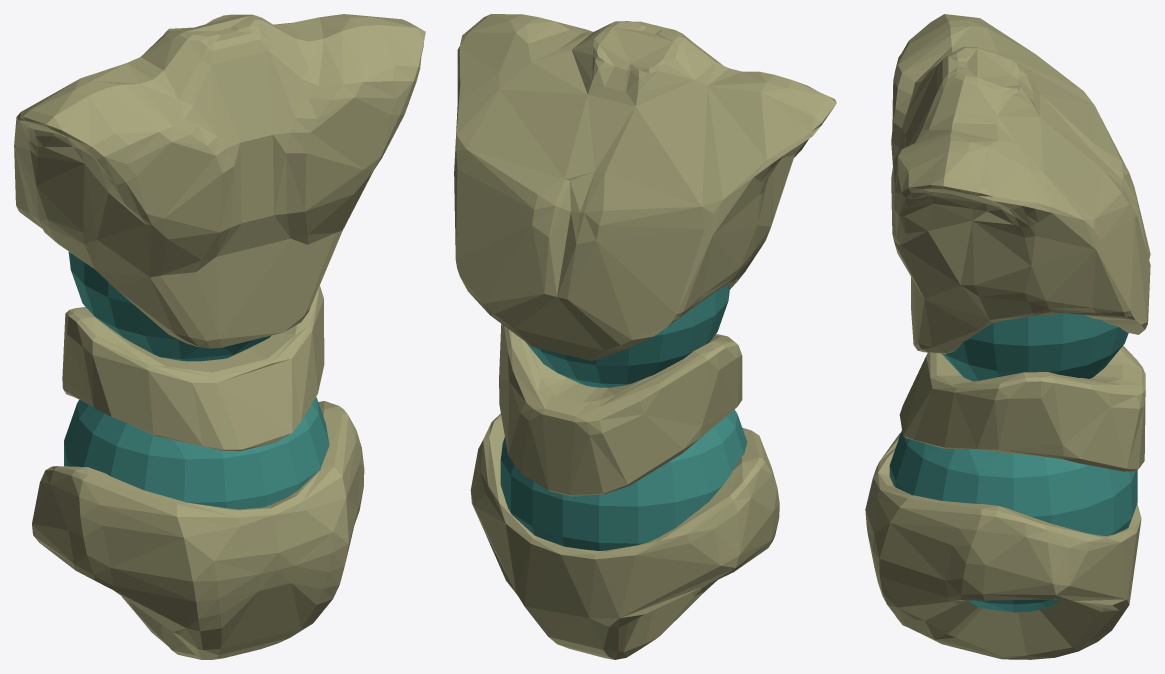
Rendered from torso.obj.
3 renders of one model, left to right at view 1: azimuth 30°, elevation 25°; view 2: azimuth 150°, elevation 25°; view 3: azimuth 270°, elevation 25°, orthographic. The views are drawn at different scales.
Visible parts, largest first — view 1: torso_Alpha_HighJointsGeo.001; view 2: torso_Alpha_HighJointsGeo.001; view 3: torso_Alpha_HighJointsGeo.001.
Part boxes in pixels (bbox=[...]): torso_Alpha_HighJointsGeo.001: bbox=[14, 14, 425, 659]; torso_Alpha_HighJointsGeo.001: bbox=[454, 14, 836, 659]; torso_Alpha_HighJointsGeo.001: bbox=[865, 14, 1150, 659].
Bounding box in the file's own units: 6.8 × 10.8 × 4.72.
1 material, 1 textured.
